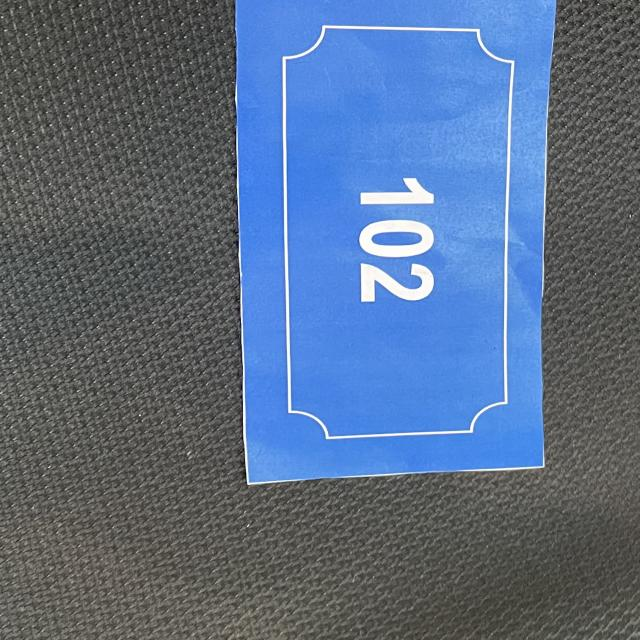Card: (133, 0, 606, 520)
